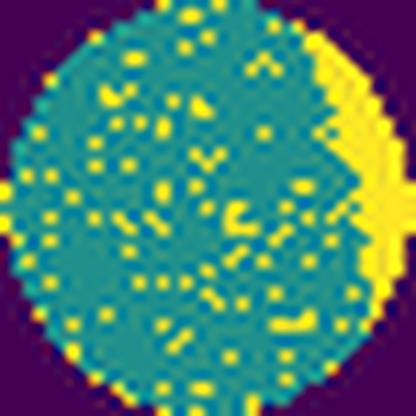Edge-Loc: (296, 0, 416, 335)
